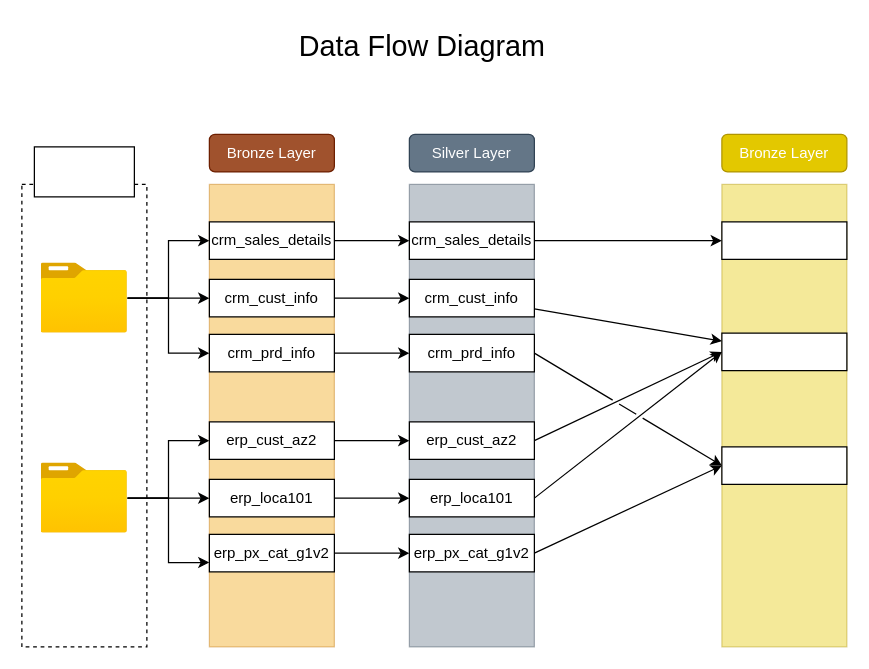
Some shapes in this 869 by 669 pixel diagram are drawn without their labels. The shapes that lost their labels are listed below. From the top down, each one's centre as x and y in pixels, then its label:
the point at 83,171: Sources
the point at 784,240: fact_sales
the point at 84,297: CRM
the point at 784,351: dim_customers
the point at 784,465: dim_products
the point at 84,497: ERP
